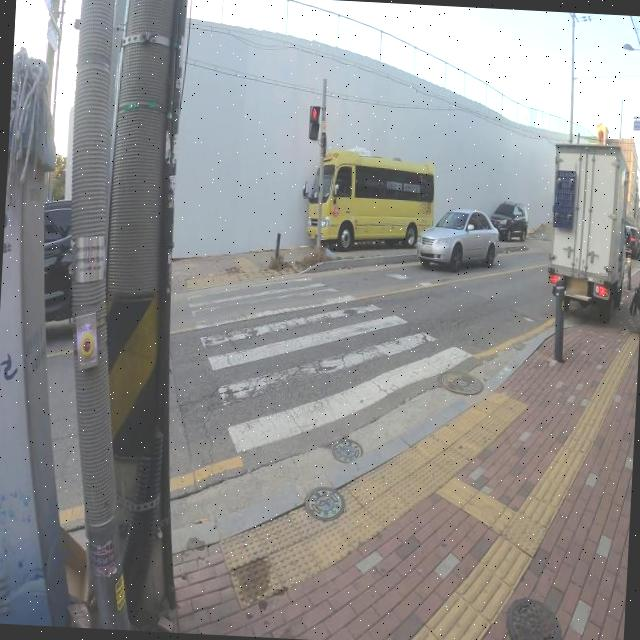crosswalk: (185, 274, 477, 460)
